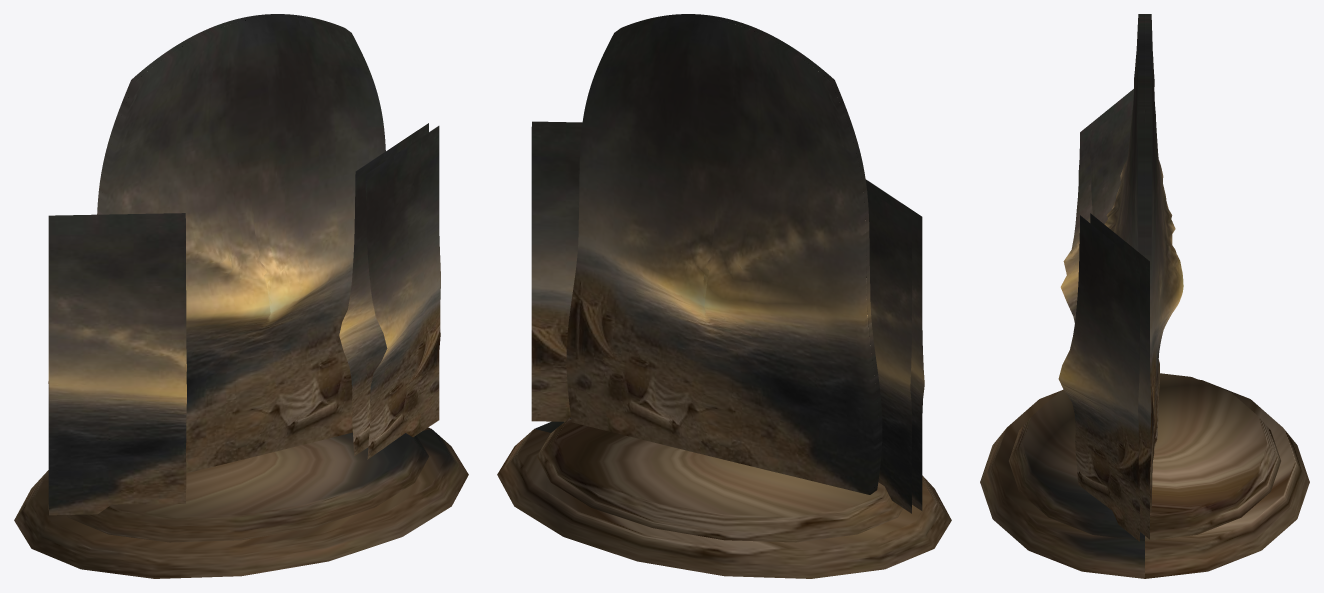
The model's file is pilgrim-lantern.glb.
The picture shows the model from 3 angles, left to right: view 1: azimuth 30°, elevation 25°; view 2: azimuth 150°, elevation 25°; view 3: azimuth 270°, elevation 25°; orthographic projection. The views are drawn at different scales.
Visible parts, largest first — view 1: PaintingSculptureMonument; view 2: PaintingSculptureMonument; view 3: PaintingSculptureMonument.
Part boxes in pixels (bbox=[...]): PaintingSculptureMonument: bbox=[14, 14, 468, 578]; PaintingSculptureMonument: bbox=[497, 14, 951, 578]; PaintingSculptureMonument: bbox=[980, 14, 1309, 578].
Size of the model in its own units: 2.76 by 2.99 by 1.99.
Materials: 1 (1 with a texture image).
